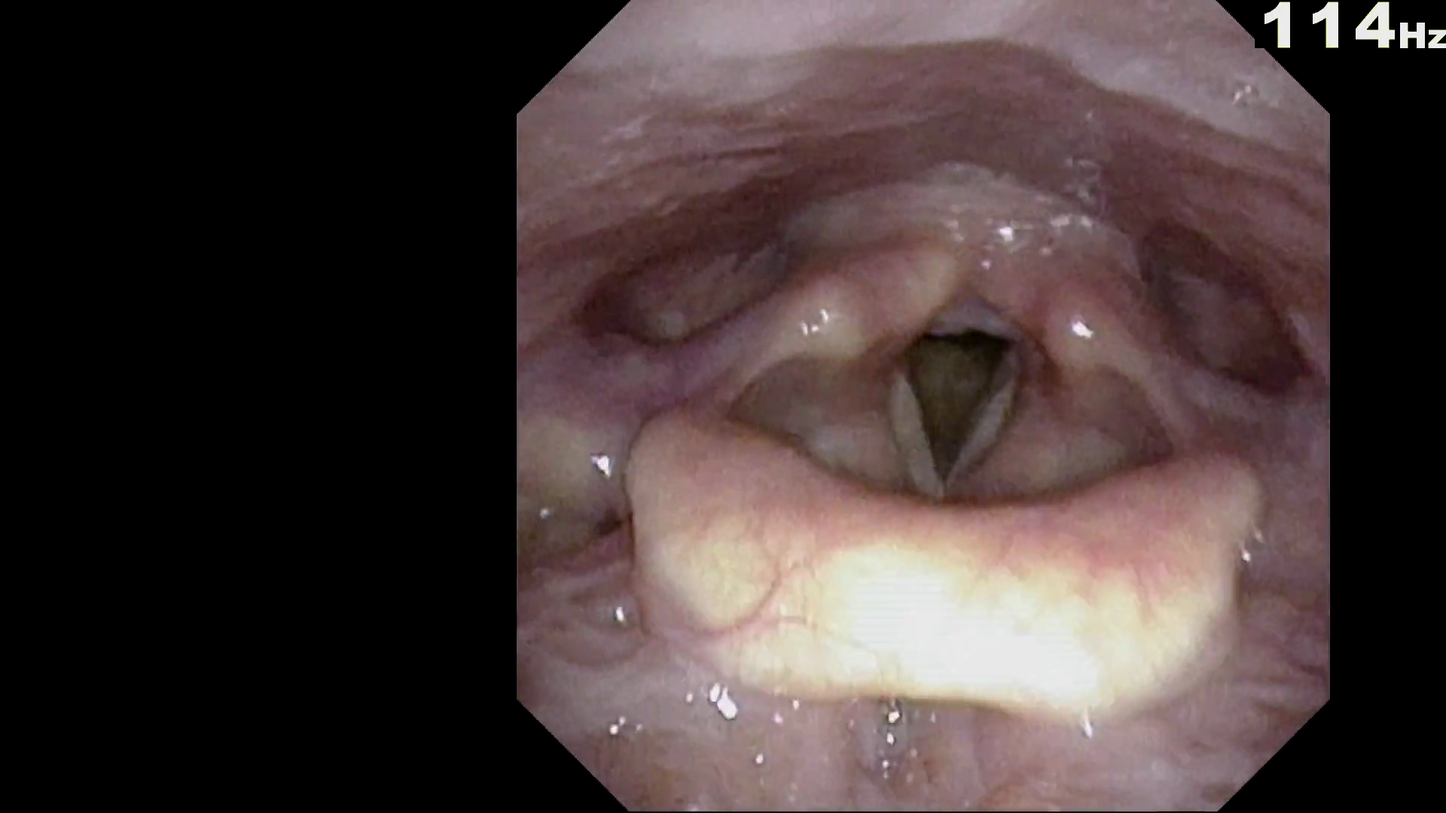epiglottis: (589, 410, 1279, 721)
trachea: (863, 309, 1042, 534)
